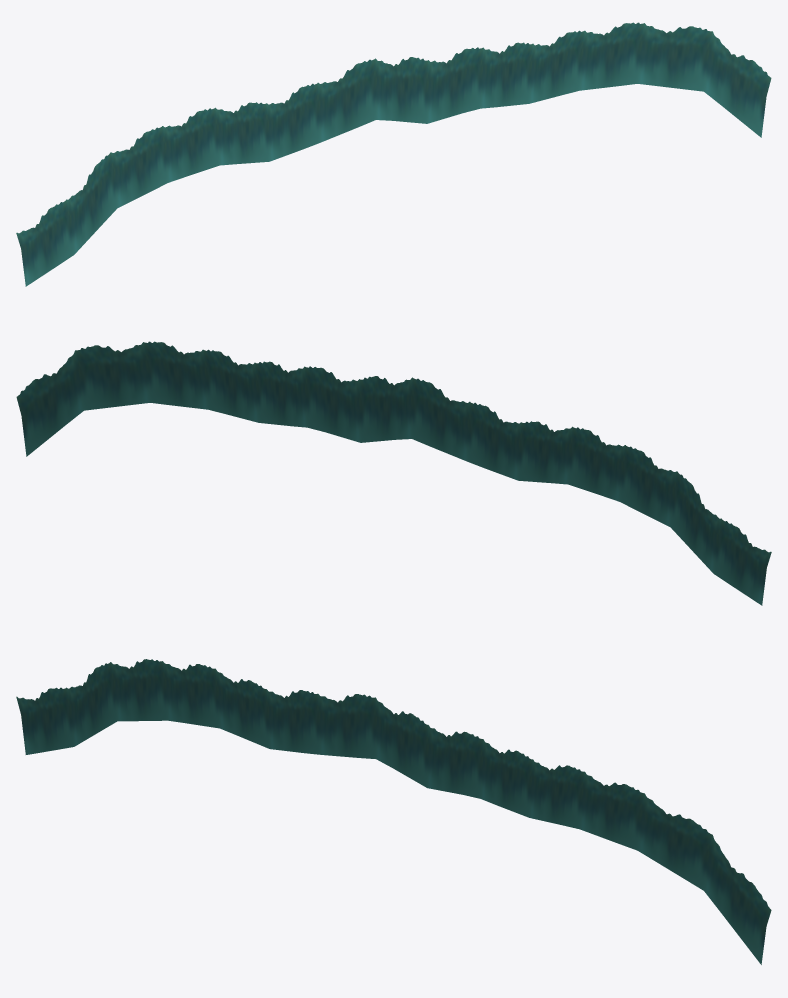
Rendered from Horizon Hill Far.FBX.
3 views of the same model, one above another, from view 1: azimuth 30°, elevation 25°; view 2: azimuth 150°, elevation 25°; view 3: azimuth 330°, elevation 25° (orthographic).
Visible parts, largest first — view 1: Horizon Forest; view 2: Horizon Forest; view 3: Horizon Forest.
Boxes of the visible parts, left/top/right/bottom form: Horizon Forest: left=16, top=22, right=771, bottom=286; Horizon Forest: left=16, top=341, right=771, bottom=605; Horizon Forest: left=16, top=659, right=771, bottom=964.
Size of the model in its own units: 8812 by 5.92e-05 by 2238.
